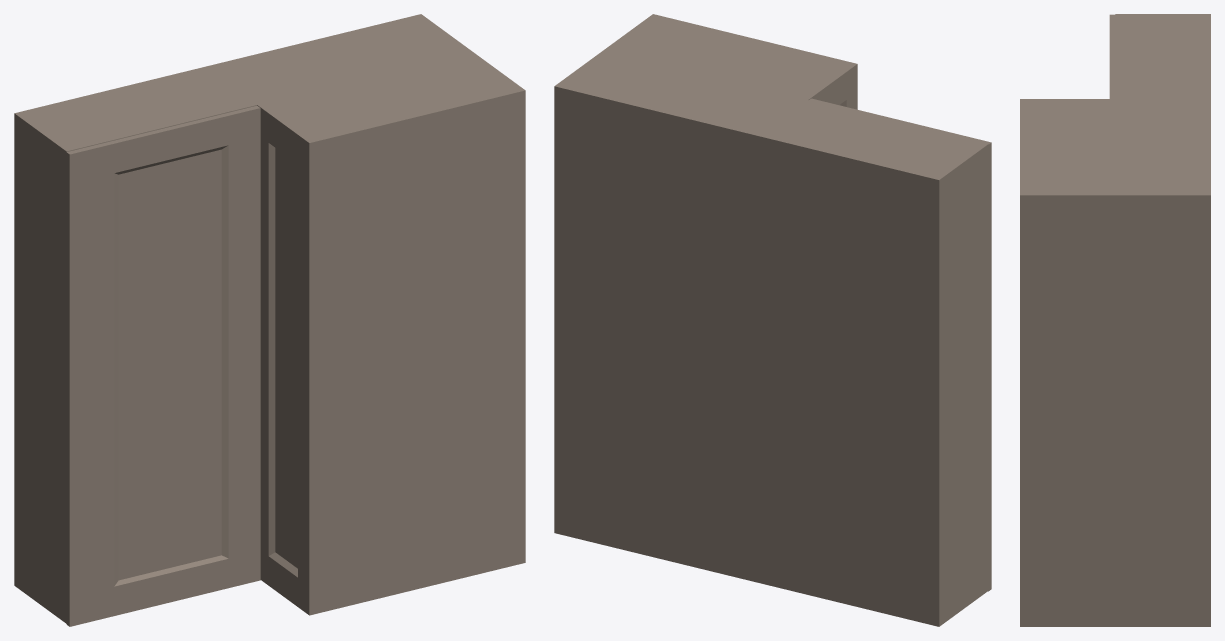
File: Wall-Cabinet-Easy-Reach-12-Deep_std_001_W27in.glb
The picture shows the model from 3 angles, left to right: view 1: azimuth 30°, elevation 25°; view 2: azimuth 150°, elevation 25°; view 3: azimuth 270°, elevation 25°; orthographic projection. The views are drawn at different scales.
Visible parts, largest first — view 1: Wall-Cabinet-Easy-Reach-12-Deep.std.001_W27in; view 2: Wall-Cabinet-Easy-Reach-12-Deep.std.001_W27in; view 3: Wall-Cabinet-Easy-Reach-12-Deep.std.001_W27in.
Part boxes in pixels (x1,y1,x2,y2): Wall-Cabinet-Easy-Reach-12-Deep.std.001_W27in: (14,14,525,626); Wall-Cabinet-Easy-Reach-12-Deep.std.001_W27in: (554,14,991,626); Wall-Cabinet-Easy-Reach-12-Deep.std.001_W27in: (1020,14,1210,626).
Bounding box in the file's own units: 0.6858 × 0.762 × 0.3048.
